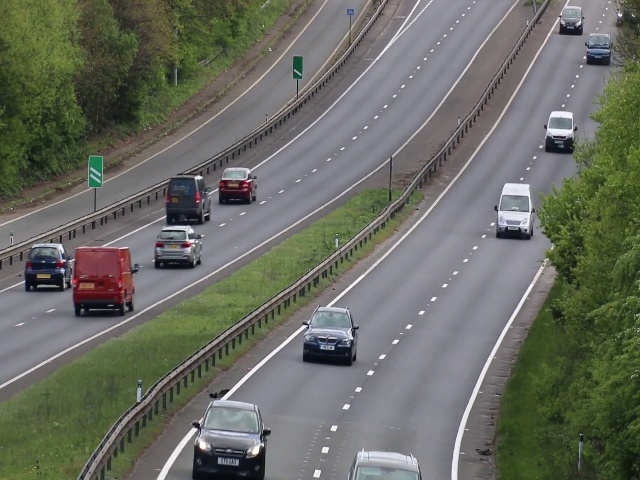car: (193, 398, 267, 480), (70, 244, 136, 315), (300, 305, 357, 365), (24, 238, 71, 295), (493, 182, 534, 239), (154, 222, 201, 269), (165, 176, 211, 223), (218, 164, 256, 204), (543, 108, 577, 152), (586, 31, 612, 67), (558, 3, 585, 37)
